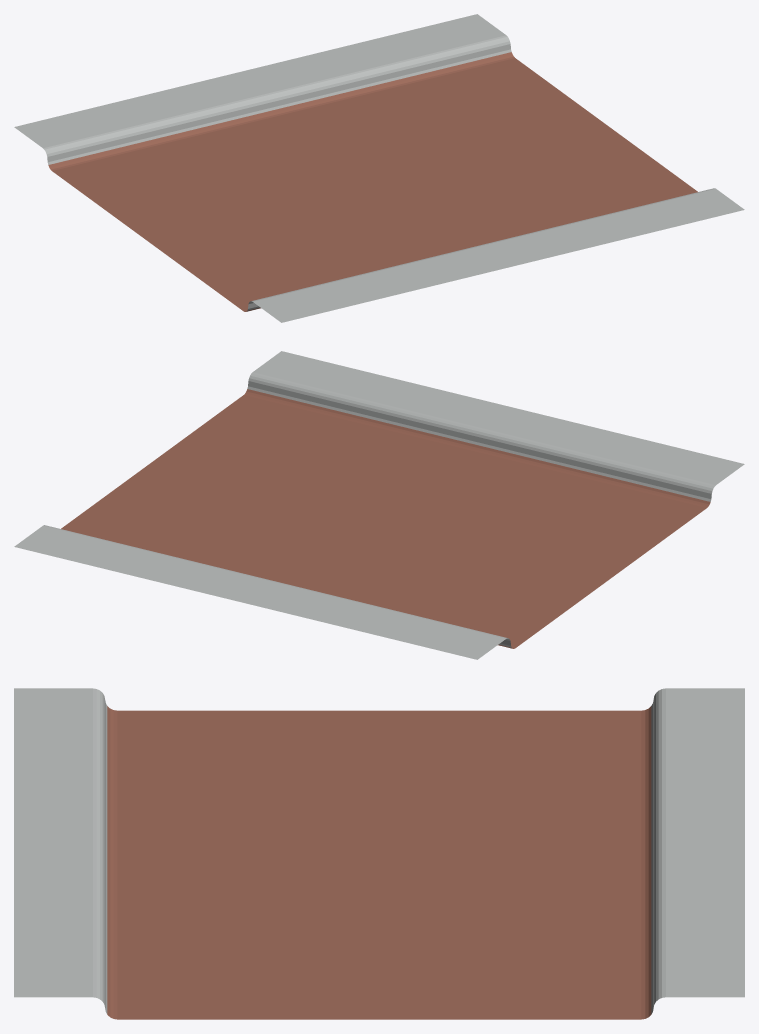
Rendered from Road.fbx.
The picture shows the model from 3 angles, top to bottom: view 1: azimuth 30°, elevation 25°; view 2: azimuth 150°, elevation 25°; view 3: azimuth 270°, elevation 25°; orthographic projection. The views are drawn at different scales.
Visible parts, largest first — view 1: Plan.001; view 2: Plan.001; view 3: Plan.001.
Part boxes in pixels (x1,y1,x2,y2): Plan.001: [14, 14, 744, 322]; Plan.001: [14, 351, 744, 659]; Plan.001: [14, 688, 744, 1019].
Bounding box in the file's own units: 800 × 26.78 × 800.
